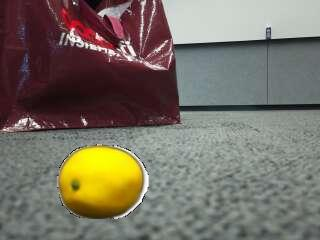lemon: (59, 146, 144, 218)
